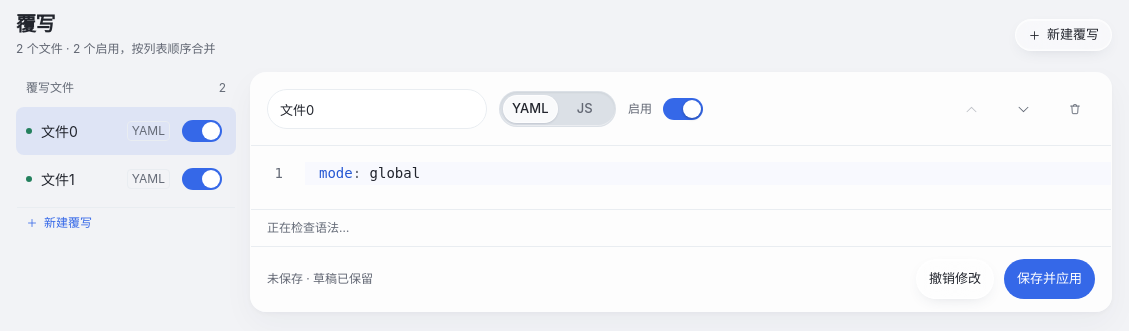
Test: 覆写草稿切换文件及页面保留，列表开关不会被旧编辑状态覆盖
Click the button with class "override-file-select" showing "文件1 YAML" at (98, 179), box [26,156,170,202]
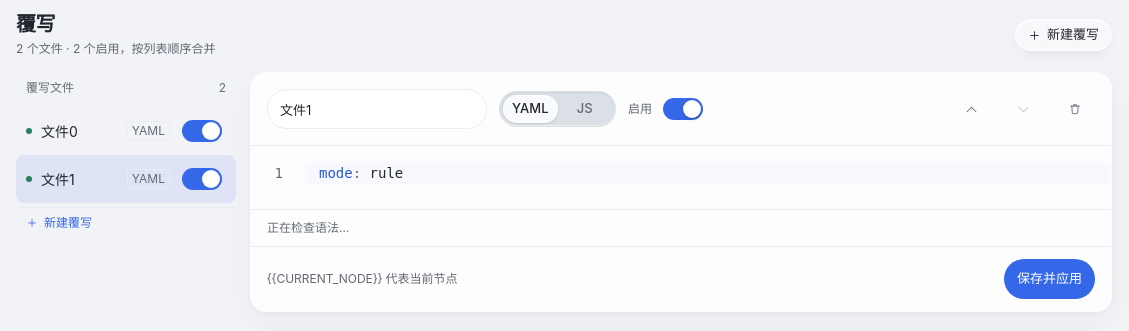
Click the button with class "override-file-select" showing "文件0 YAML" at (98, 131), box [26,108,170,154]
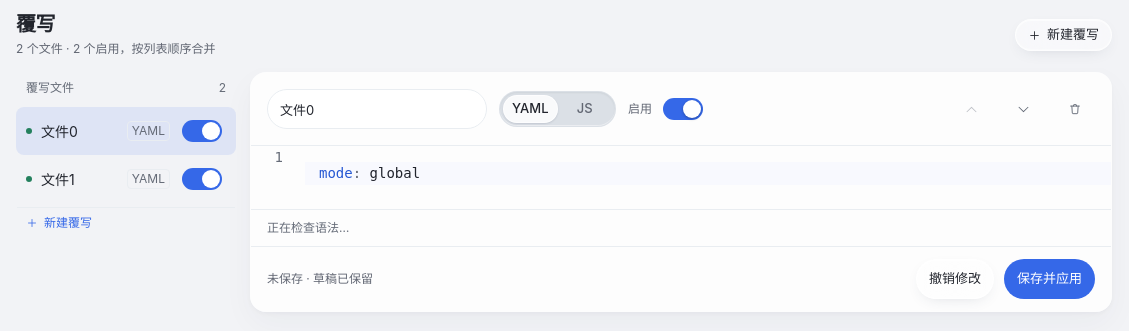
Result: the text box labelled "mode: global" is shown at [305,162,1111,185]
Click the 1st switch named "停用覆写" at (202, 131), box [178,107,226,155]
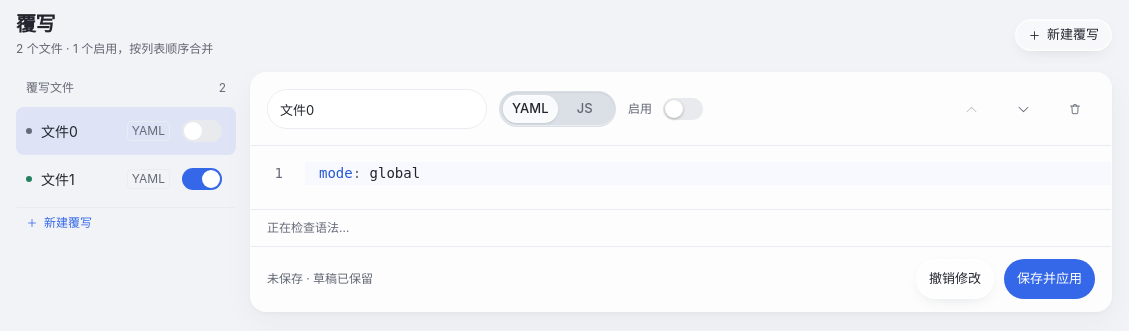
Result: the switch named "启用覆写" below "覆写文件" is not checked at [178,107,226,155]
Click the button "保存并应用" at (1050, 279), box [1004,259,1095,299]
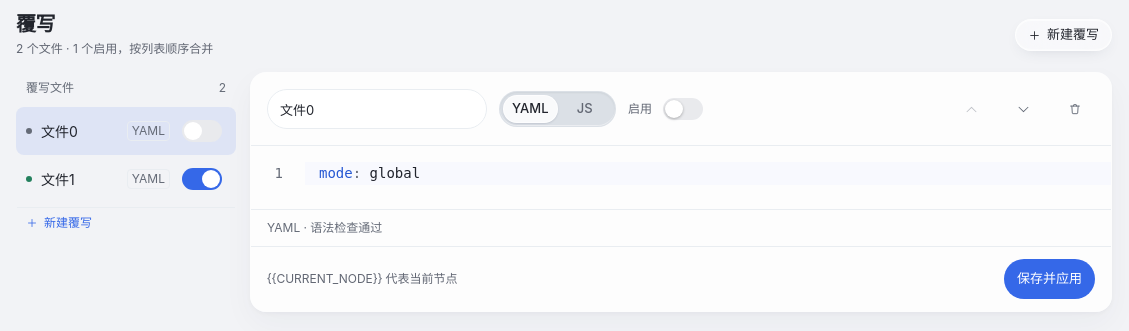
Result: the button "撤销修改" is gone
